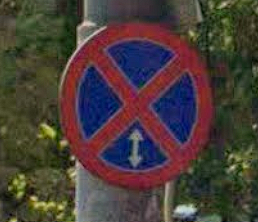oprirea_interzisa: (56, 19, 219, 198)
